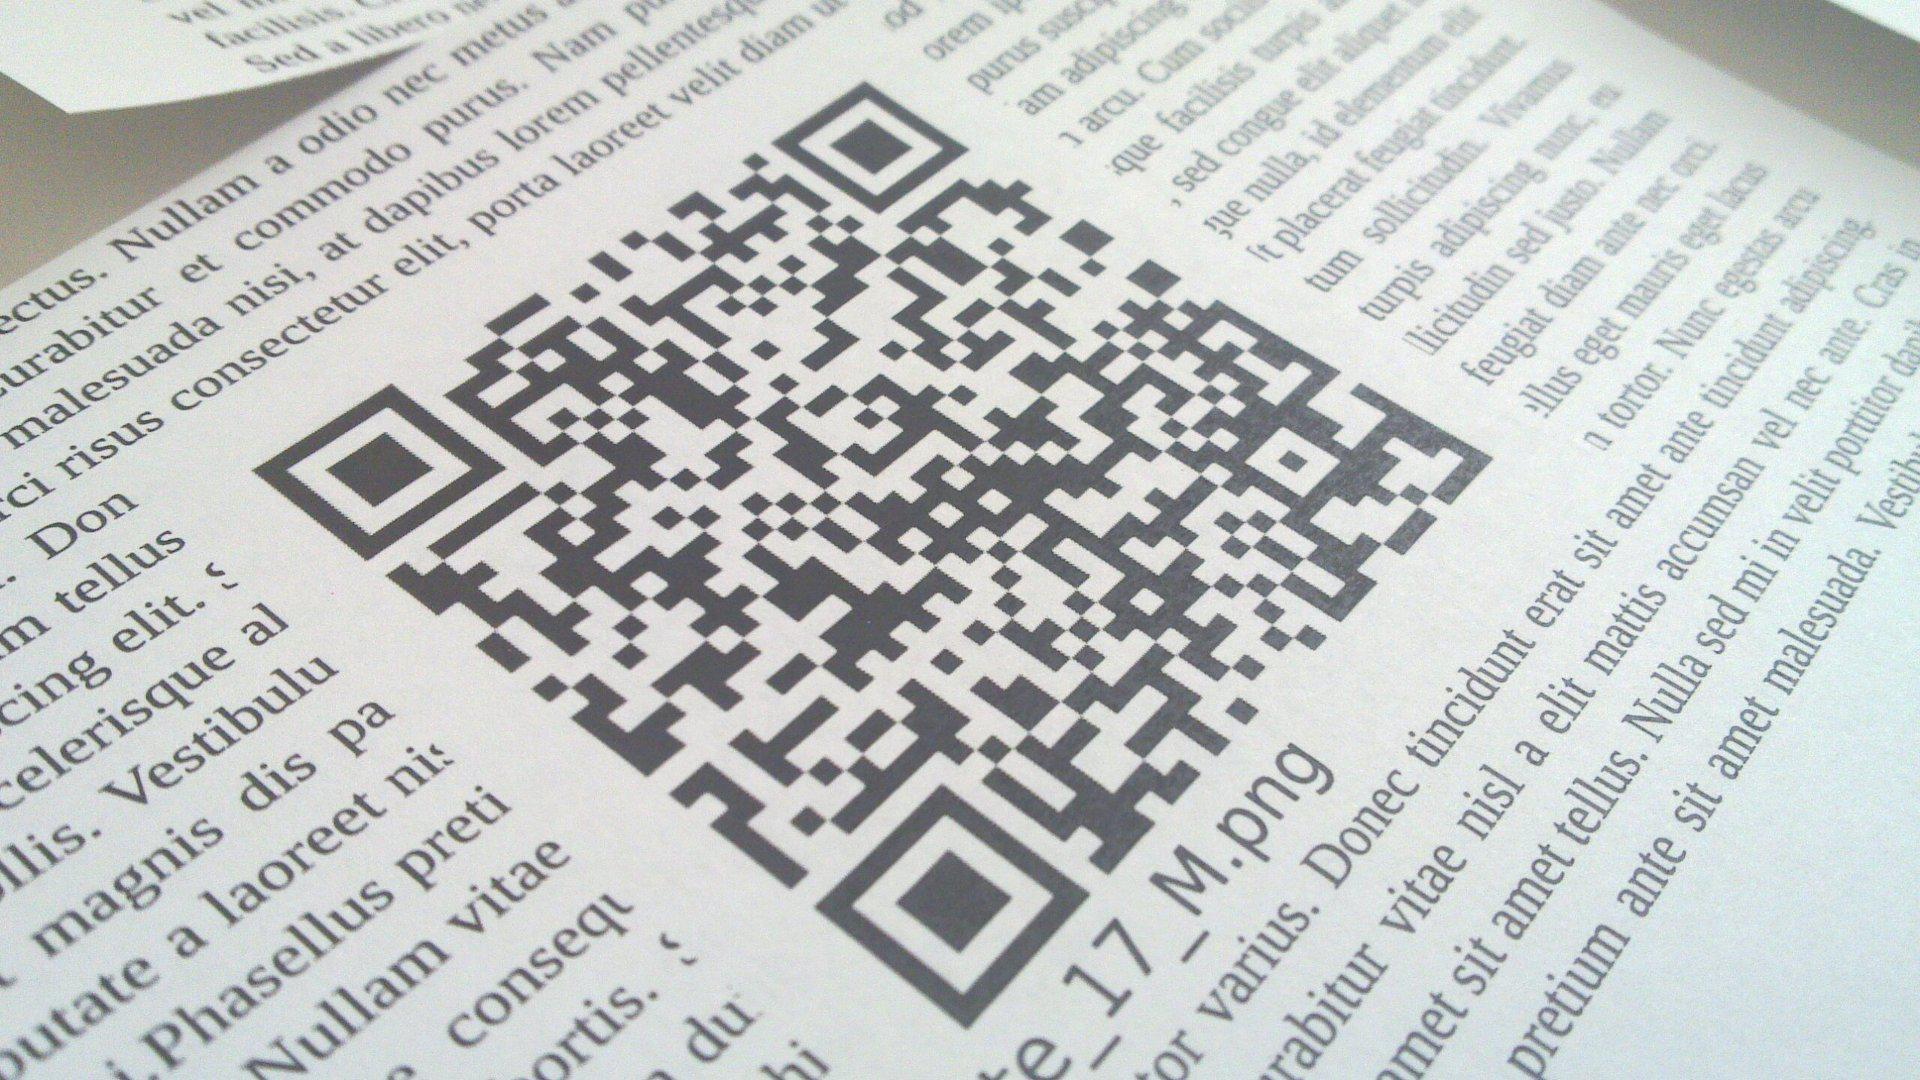Finder pattern: (819, 781, 1100, 1025), (247, 385, 512, 560), (762, 80, 976, 208)
